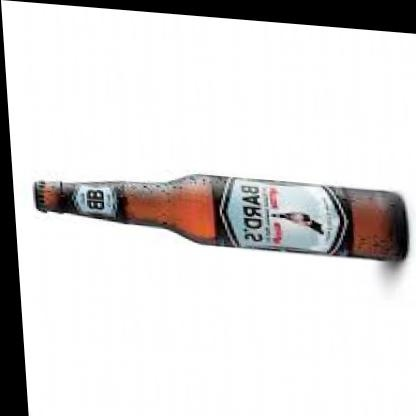trash: (34, 175, 407, 260)
